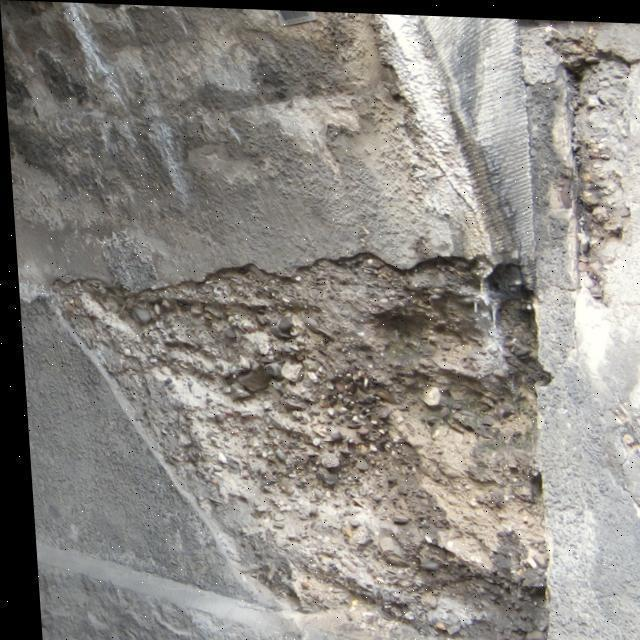D10: (50, 250, 549, 639)
